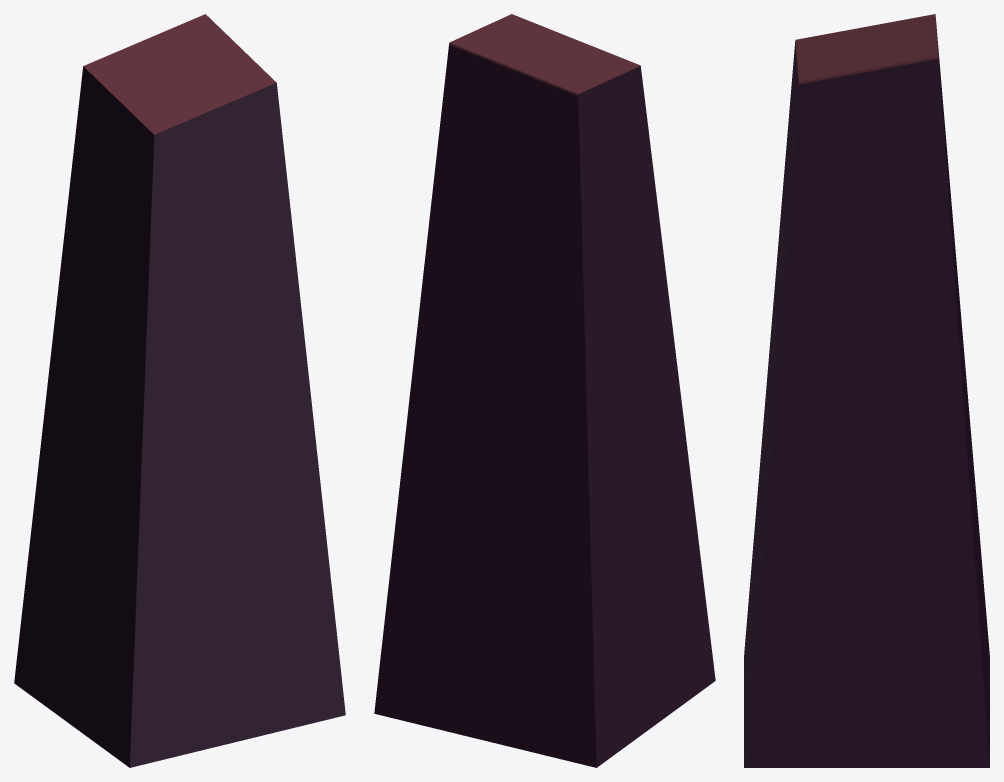
The model's file is rock1_MESH.fbx.
3 views of the same model, side by side, from view 1: azimuth 30°, elevation 25°; view 2: azimuth 150°, elevation 25°; view 3: azimuth 270°, elevation 25° (orthographic). The views are drawn at different scales.
Parts seen in each view (by area): view 1: rockOne_MESH; view 2: rockOne_MESH; view 3: rockOne_MESH.
Part boxes in pixels (bbox=[...]): rockOne_MESH: bbox=[14, 14, 345, 767]; rockOne_MESH: bbox=[374, 14, 715, 767]; rockOne_MESH: bbox=[744, 14, 989, 767].
Size of the model in its own units: 3.04 by 8.7 by 2.82.
